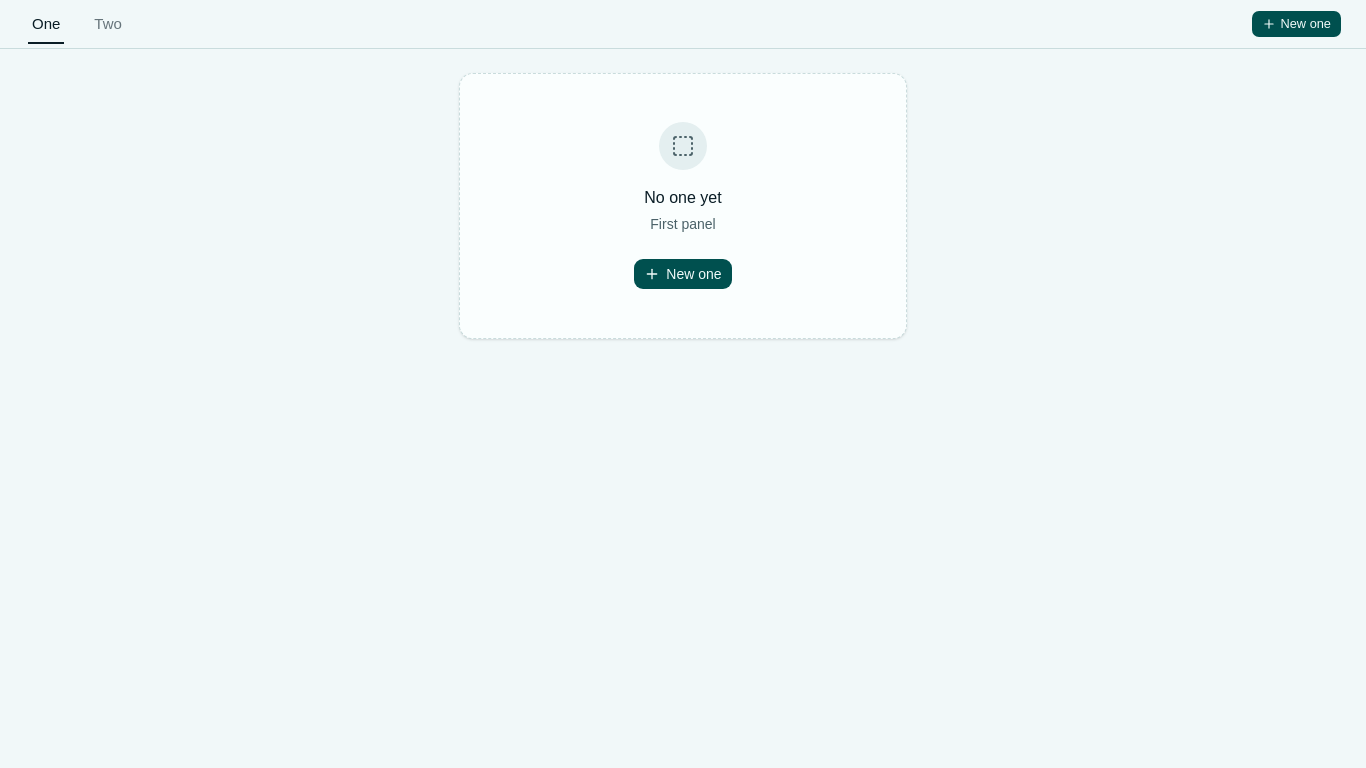
Test case: PageTabs › opens a create prompt from the new button
The image size is (1366, 768).
Click the 1st button "New one": {"x": 1297, "y": 24} left=1252, top=10, right=1342, bottom=38
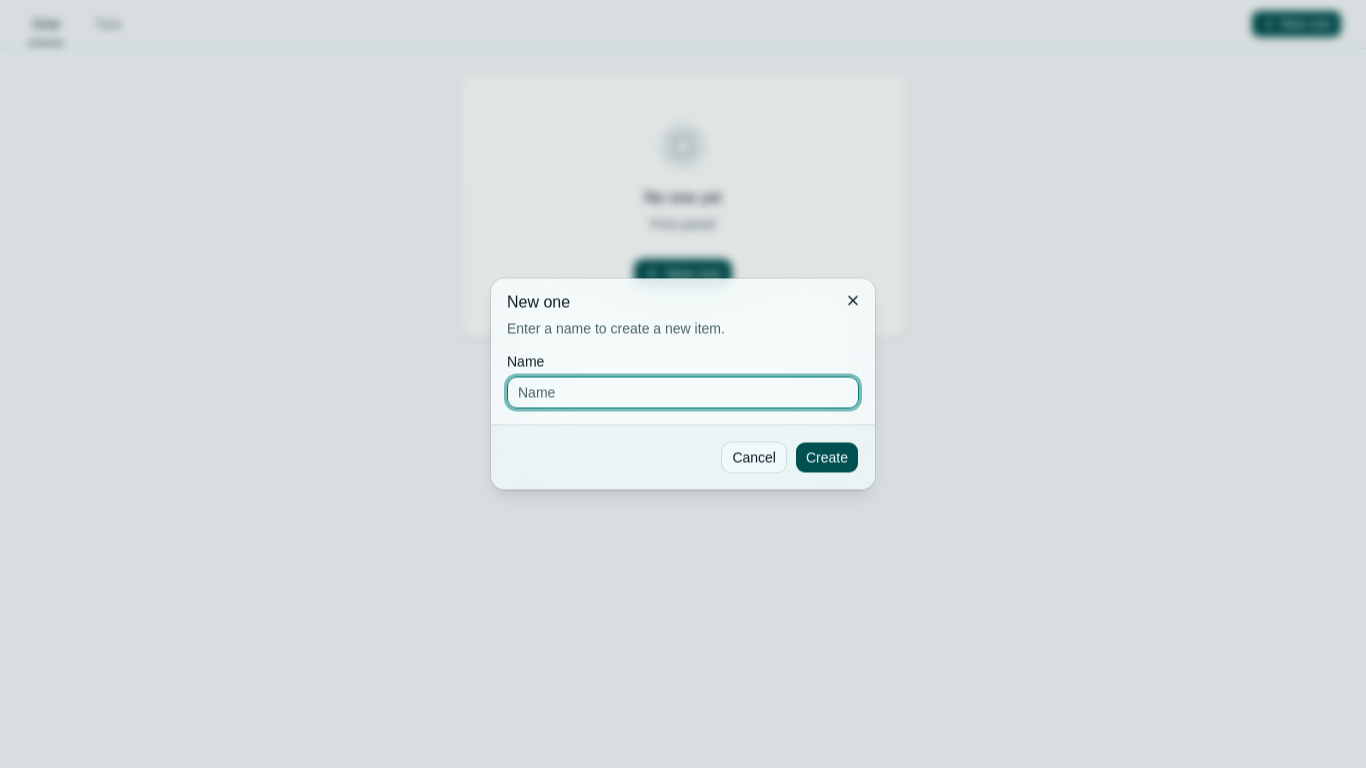
Expected: the dialog "New one" is shown, left=491, top=278, right=875, bottom=490
Expected: the field with placeholder "Name" is shown, left=507, top=376, right=859, bottom=408
